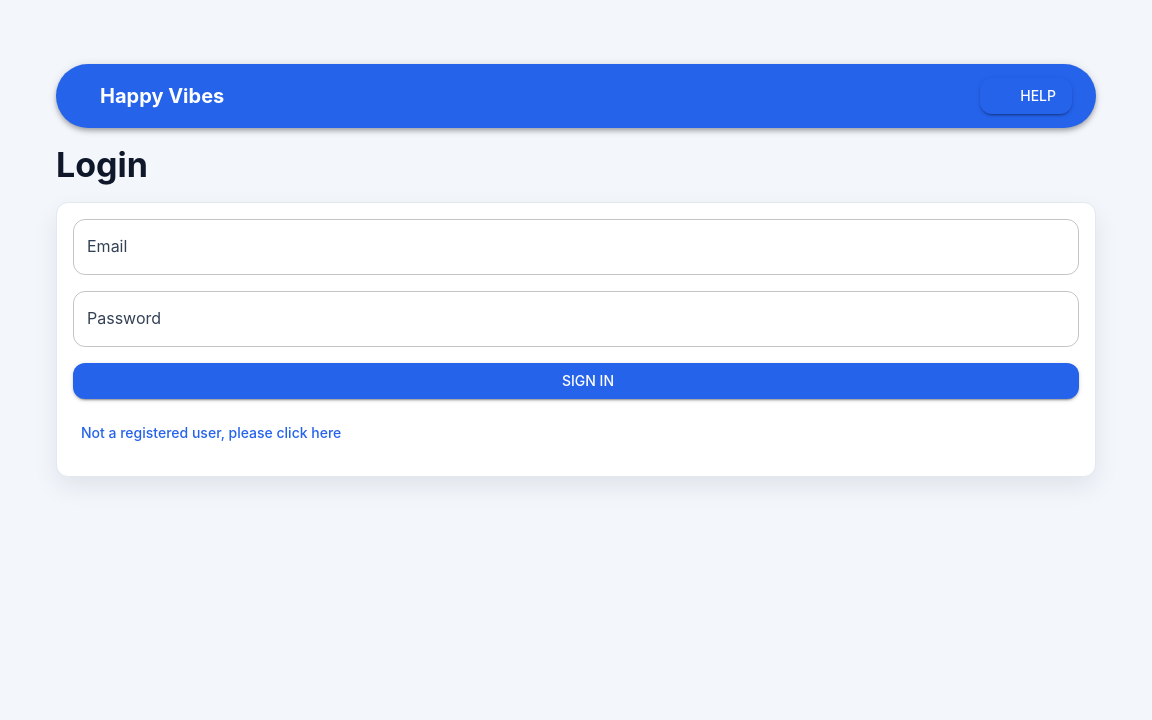
Test: Feature: Self registration › should navigate from login page to registration page
What coordinates should you click on to do the following:
click the button with test id "login-register-link"
I would click on:
 (211, 435)
Its box is [73,416,349,453].
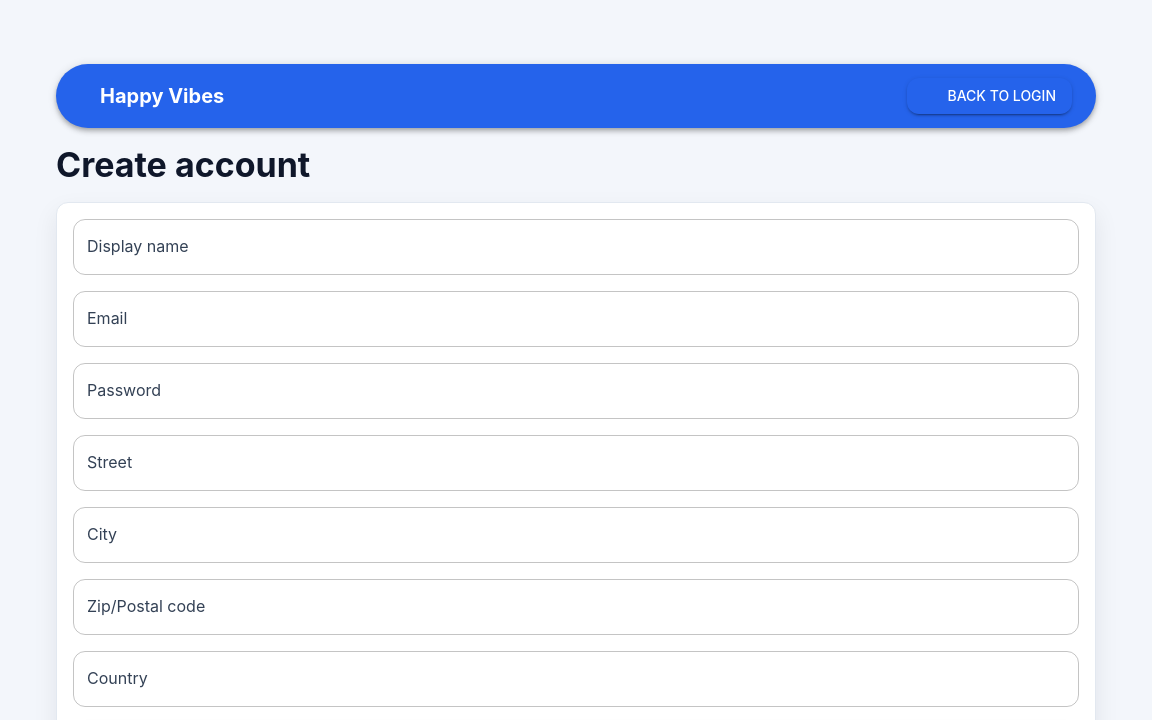
expect the heading "Create account" is shown: met, box [56,144,310,185]
